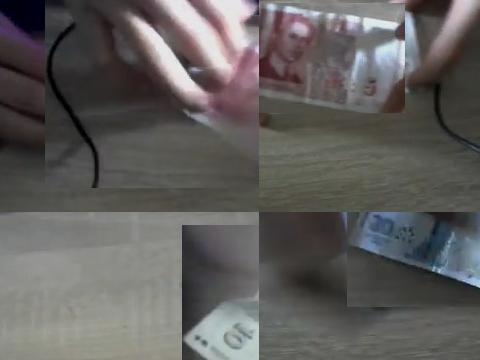20leva: (347, 212, 480, 289)
5leva: (66, 0, 259, 172), (259, 3, 405, 113), (264, 7, 398, 108)
